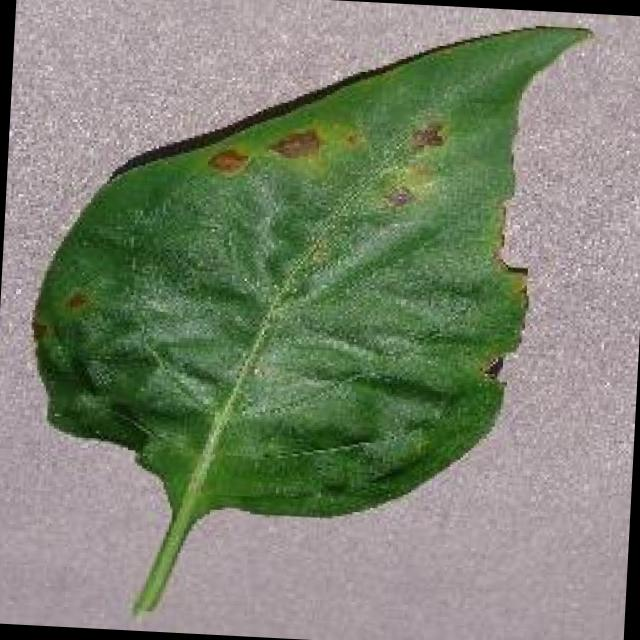Chilli_Bacterial_Spot: (12, 0, 596, 638), (196, 101, 454, 219), (200, 109, 368, 190), (263, 122, 325, 165), (202, 141, 252, 181), (404, 116, 448, 156), (378, 180, 417, 212), (59, 284, 92, 316), (334, 123, 366, 155), (478, 351, 507, 382), (26, 315, 52, 346)
